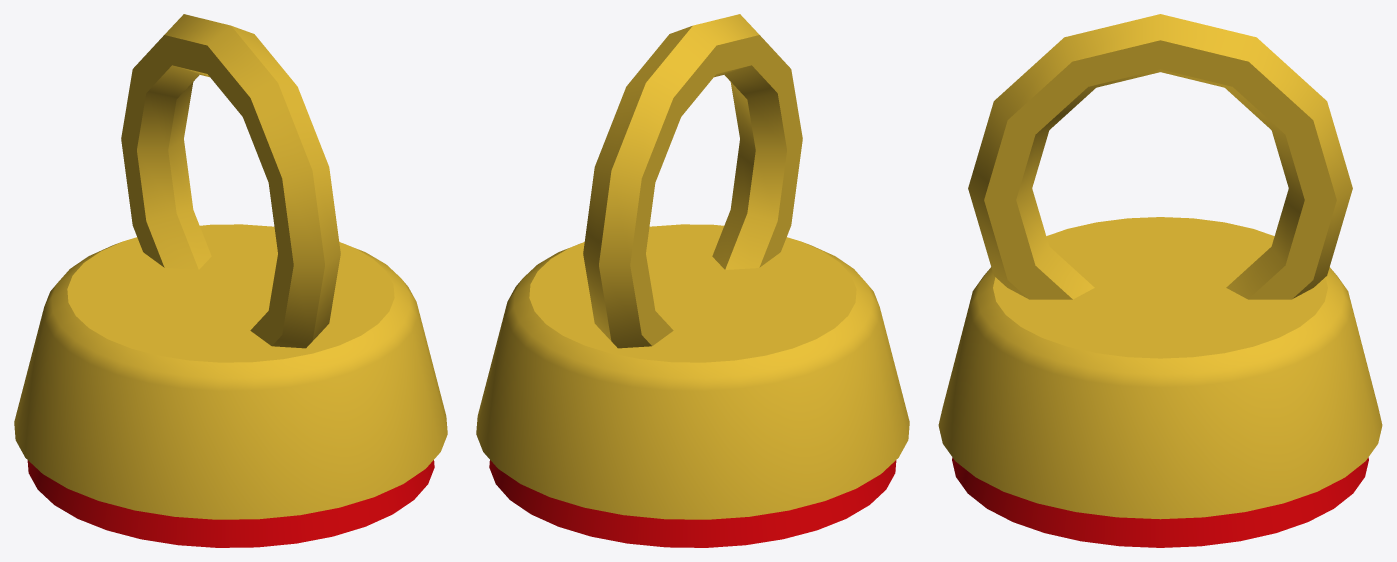
The model's file is Bauble_top.fbx.
3 renders of one model, left to right at view 1: azimuth 30°, elevation 25°; view 2: azimuth 150°, elevation 25°; view 3: azimuth 270°, elevation 25°, orthographic. The views are drawn at different scales.
Visible parts, largest first — view 1: Baulbe_top; view 2: Baulbe_top; view 3: Baulbe_top.
Part boxes in pixels (x1,y1,x2,y2): Baulbe_top: [14, 14, 447, 547]; Baulbe_top: [476, 14, 909, 547]; Baulbe_top: [938, 14, 1382, 547].
Size of the model in its own units: 0.4153 by 0.4601 by 0.4153.
